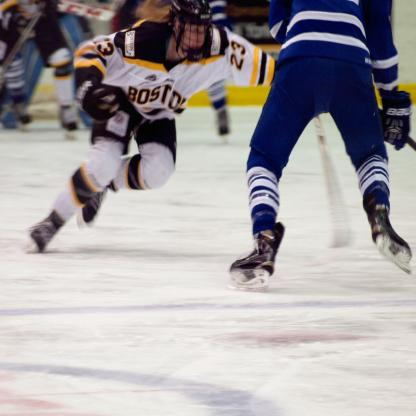Helmet: (158, 6, 223, 52)
